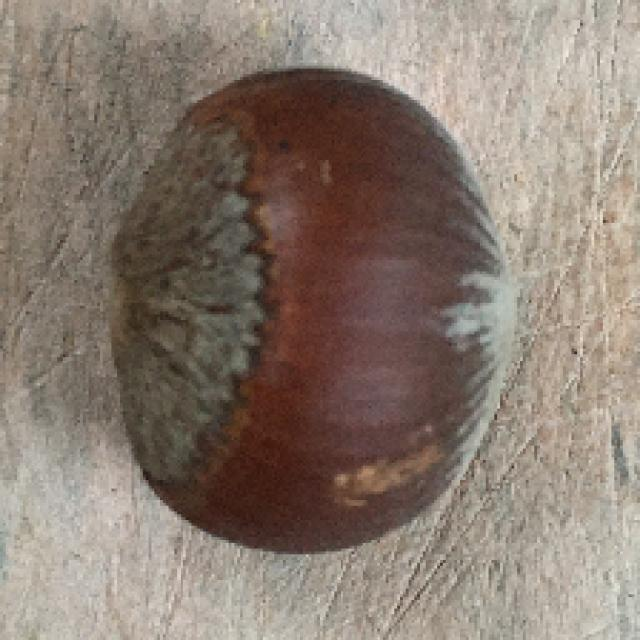qualityHazelnut: (112, 53, 518, 564)
